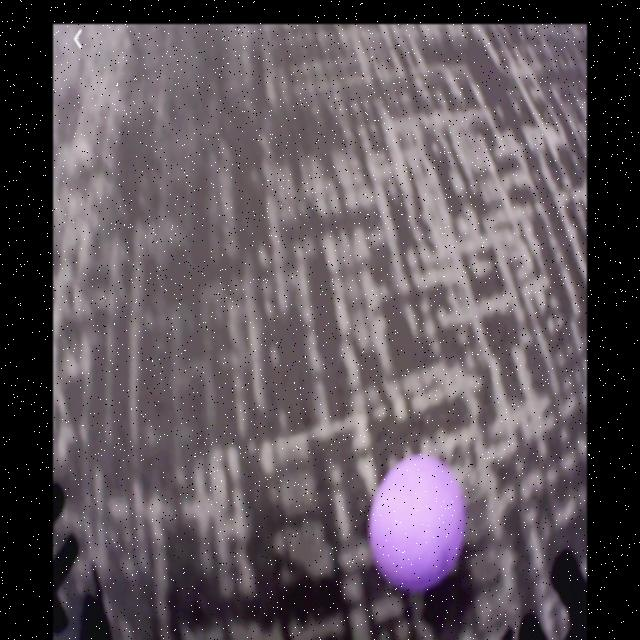ball: (371, 454, 464, 595)
